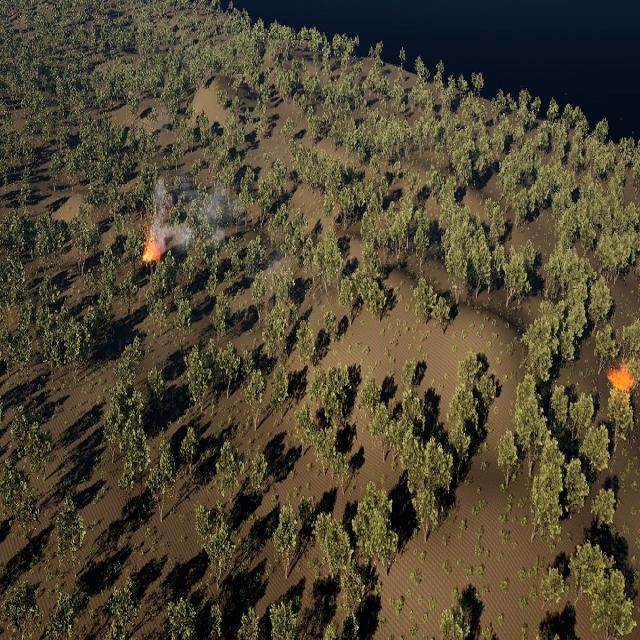fire: (608, 366, 635, 389), (142, 236, 160, 261)
smoke: (150, 172, 238, 255)
